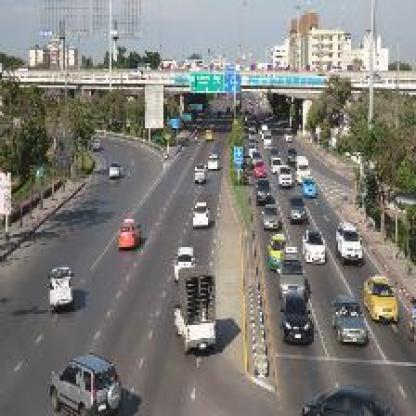other: (349, 262, 400, 324), (111, 213, 140, 246)
